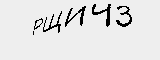З: (116, 5, 136, 28)
И: (67, 6, 86, 29)
Р: (31, 16, 42, 36)
Ч: (90, 2, 111, 27)
Щ: (44, 11, 61, 34)
